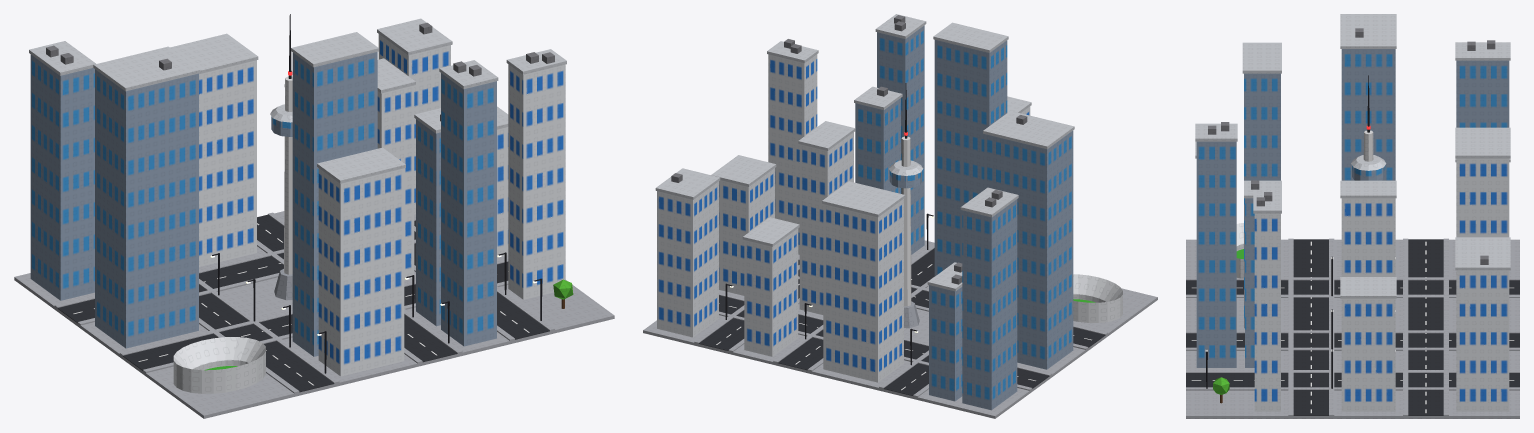
Rendered from Ville_05.glb.
The picture shows the model from 3 angles, left to right: view 1: azimuth 30°, elevation 25°; view 2: azimuth 150°, elevation 25°; view 3: azimuth 270°, elevation 25°; orthographic projection. The views are drawn at different scales.
Visible parts, largest first — view 1: Ville_05; view 2: Ville_05; view 3: Ville_05.
Boxes of the visible parts, box(x1,y1,x2,y2) form: Ville_05: box(14, 14, 614, 418); Ville_05: box(643, 14, 1157, 418); Ville_05: box(1186, 14, 1519, 418).
Bounding box in the file's own units: 40 × 27.6 × 32.
16 materials, 10 textured.
